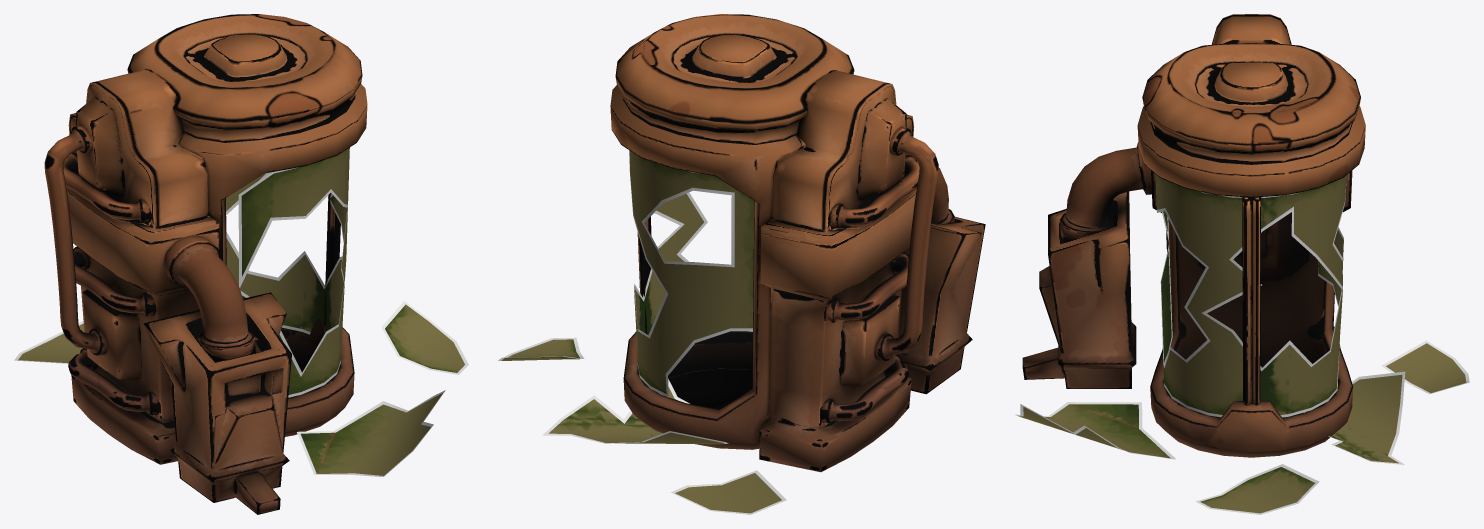
Rendered from cryopod_broken.fbx.
3 renders of one model, left to right at view 1: azimuth 30°, elevation 25°; view 2: azimuth 150°, elevation 25°; view 3: azimuth 270°, elevation 25°, orthographic. The views are drawn at different scales.
Parts seen in each view (by area): view 1: Cryopod_broken; view 2: Cryopod_broken; view 3: Cryopod_broken.
Part boxes in pixels (<box>): Cryopod_broken: <box>14,14,468,514</box>; Cryopod_broken: <box>498,14,985,514</box>; Cryopod_broken: <box>1015,14,1469,514</box>.
Bounding box in the file's own units: 810 × 663 × 792.
